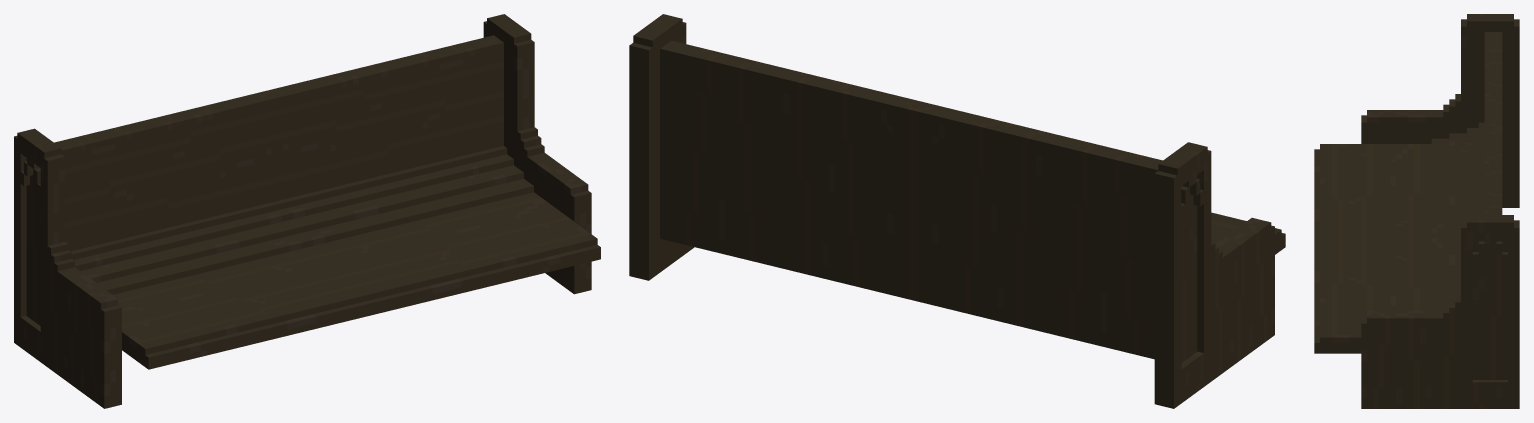
File: Church_pew.obj
3 renders of one model, left to right at view 1: azimuth 30°, elevation 25°; view 2: azimuth 150°, elevation 25°; view 3: azimuth 270°, elevation 25°, orthographic. The views are drawn at different scales.
Size of the model in its own units: 8.4 by 3.5 by 3.5.
1 material, 1 textured.
